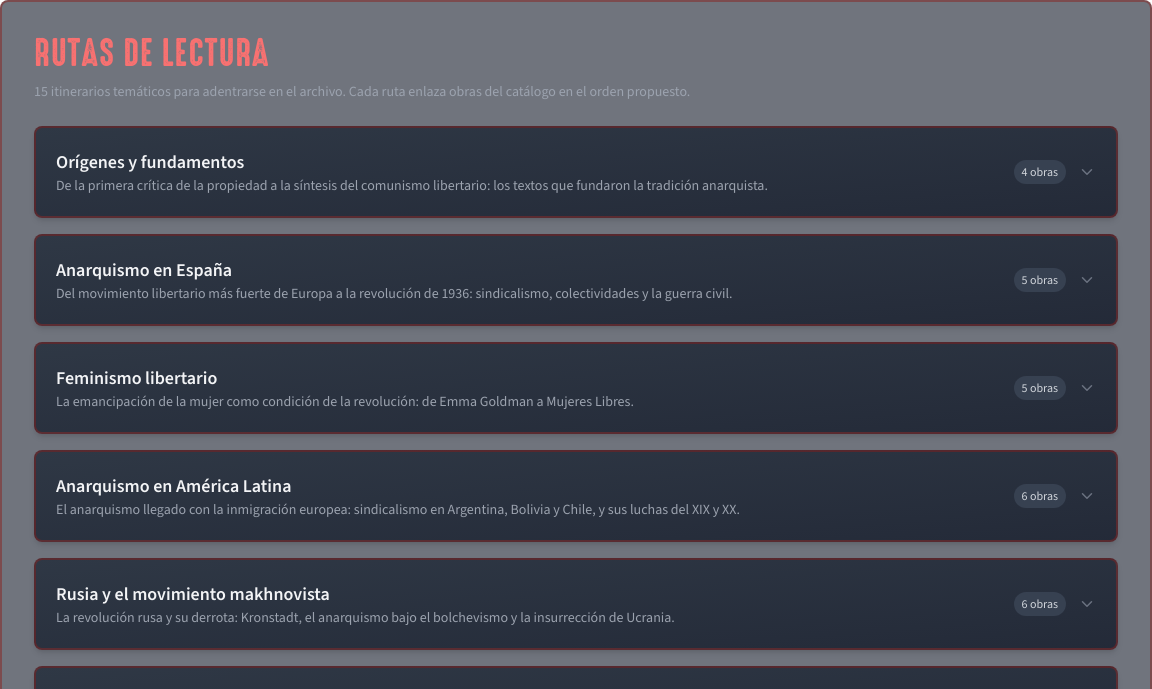
Scenario: ReadingPathsView › al abrir una ruta muestra sus obras
Click the heading "Orígenes y fundamentos": (150, 162) [56,150,244,174]
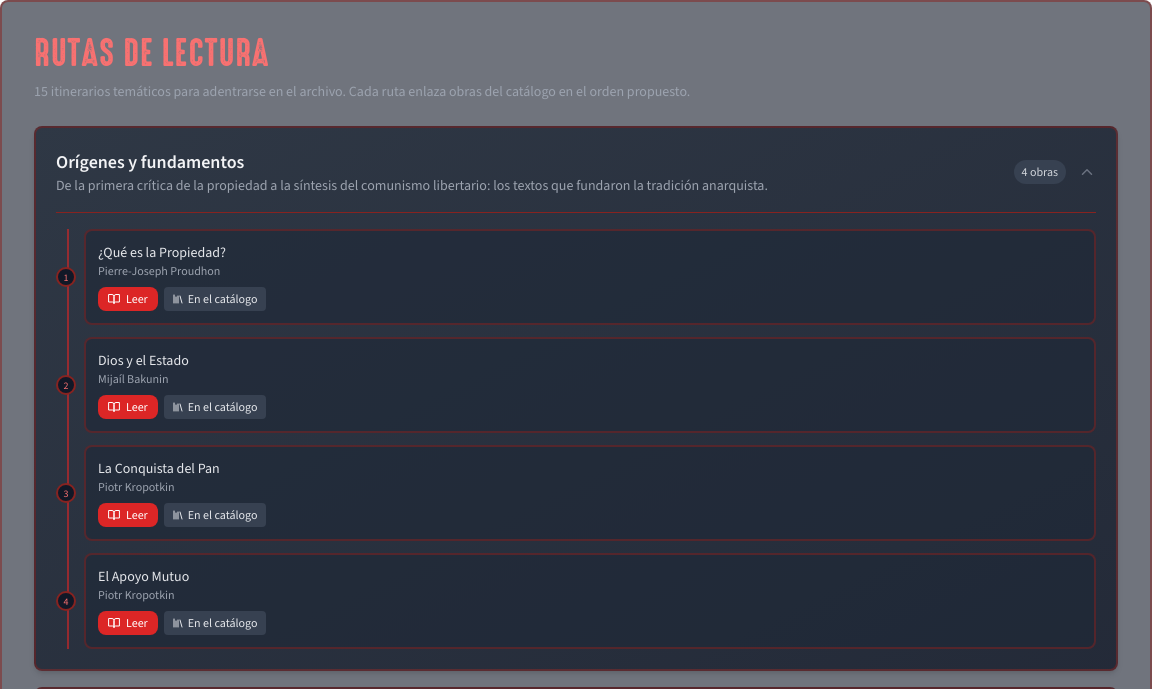
Expected: the text "¿Qué es la Propiedad?" is shown, [98,243,226,262]
Expected: the text "Dios y el Estado" is shown, [98,351,189,370]
